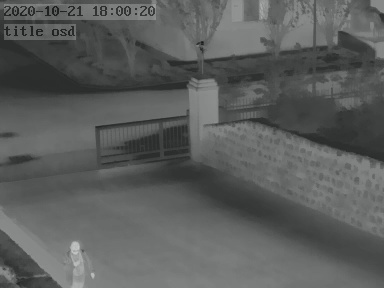person: (62, 237, 90, 288)
